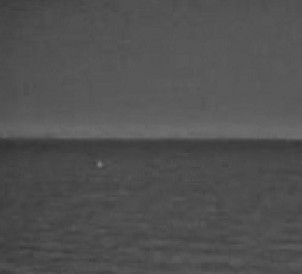Target: (99, 162, 102, 166)
